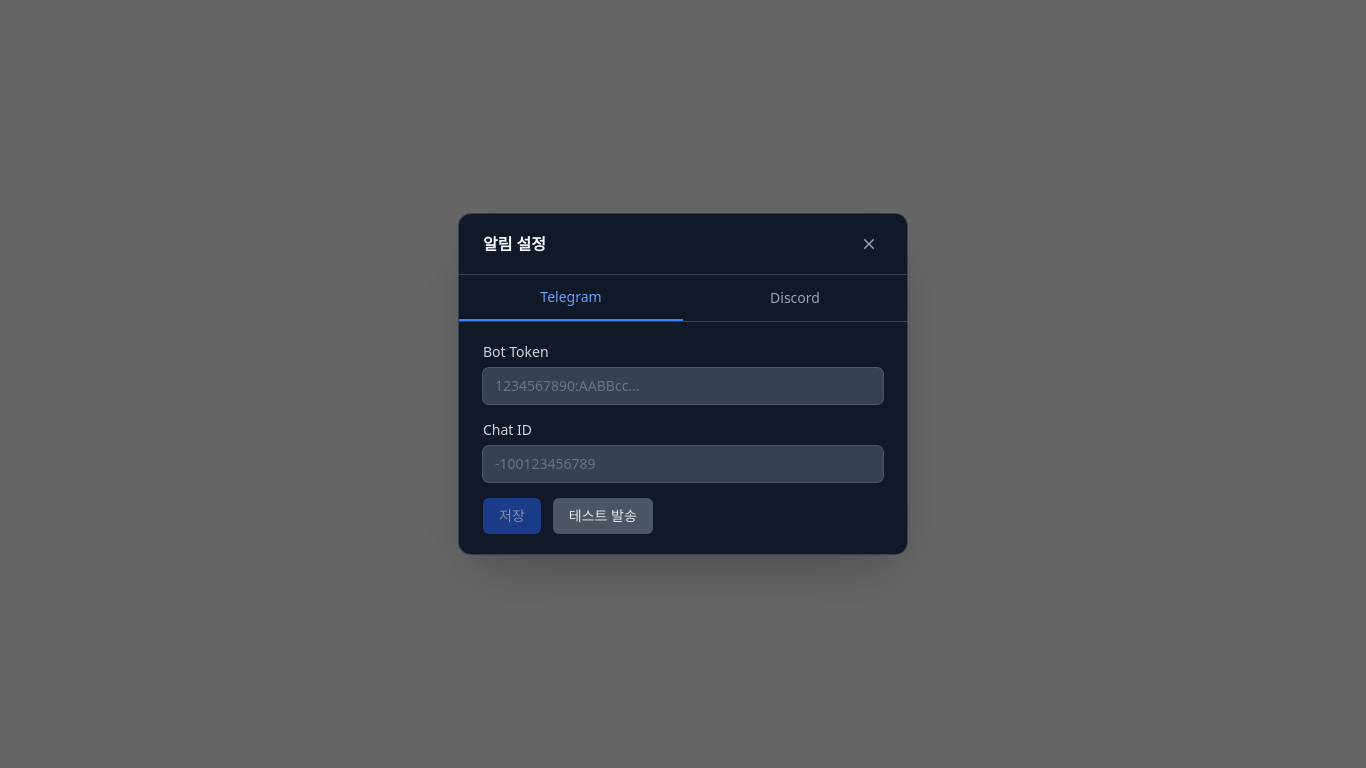
Scenario: SettingsDialog › Discord 탭 클릭 시 Webhook URL 입력 필드가 표시된다
Click the tab "Discord" at (795, 298), box [683,275,907,321]
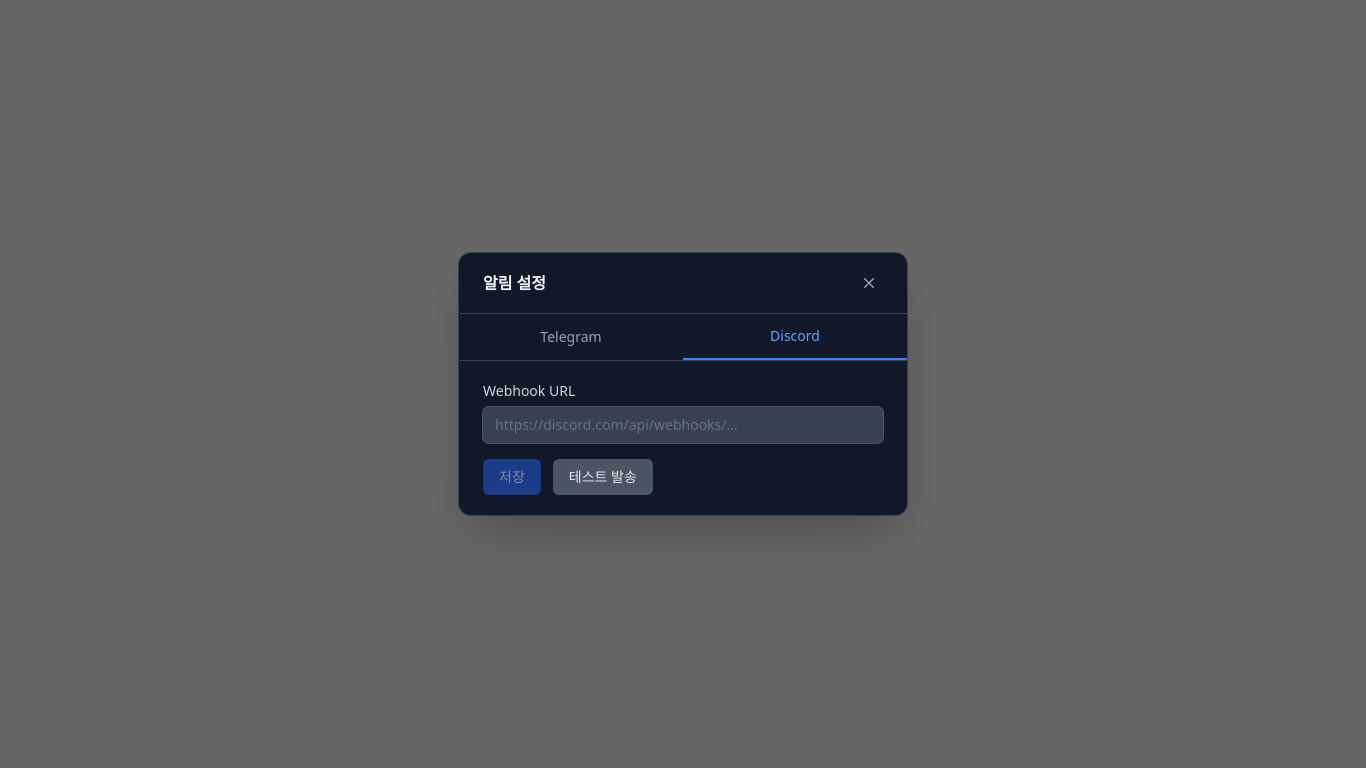
Expected: the password field labelled "Webhook URL" is shown, [483,407,883,443]
Expected: the label labelled "Bot Token" is gone
